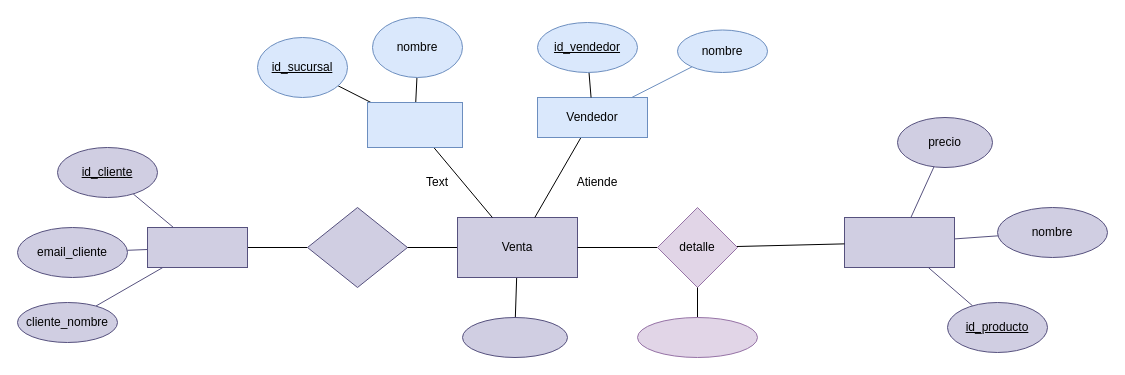
Some shapes in this 1125 by 375 pixel diagram are drawn without their labels. The centre of each missing label's shape, as x and y in pixels:
"Cantidad" belongs at pixel 697 337.
"Cliente" belongs at pixel 197 247.
"Genera" belongs at pixel 357 247.
"id_venta" belongs at pixel 515 337.
"Producto" belongs at pixel 899 242.
"Sucursal" belongs at pixel 414 125.
